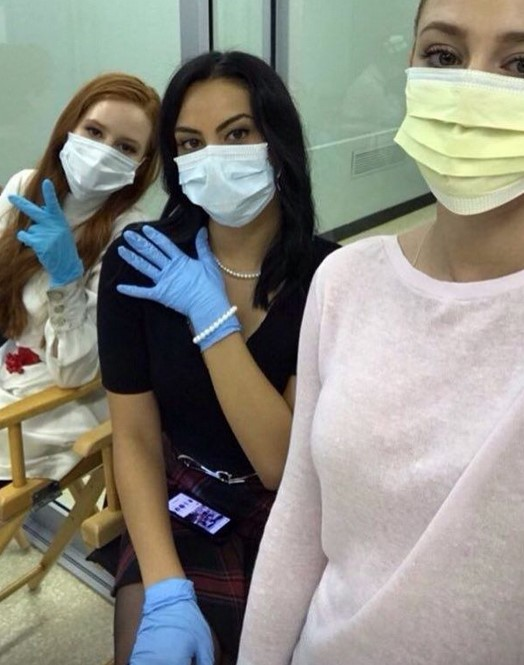face_with_mask: (392, 6, 524, 221), (159, 54, 305, 236), (59, 73, 155, 206)
